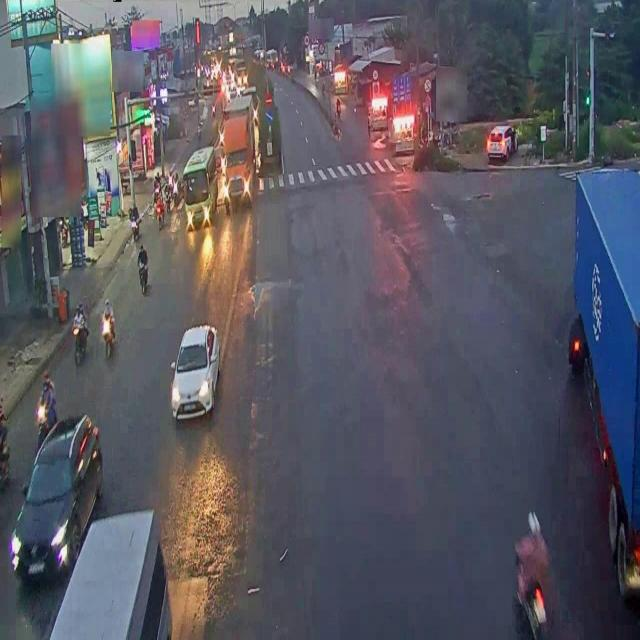car: (14, 419, 96, 568), (172, 321, 218, 416)
motorcycle: (73, 302, 89, 363), (103, 301, 117, 360), (136, 247, 151, 292)
truck: (54, 495, 172, 640)
